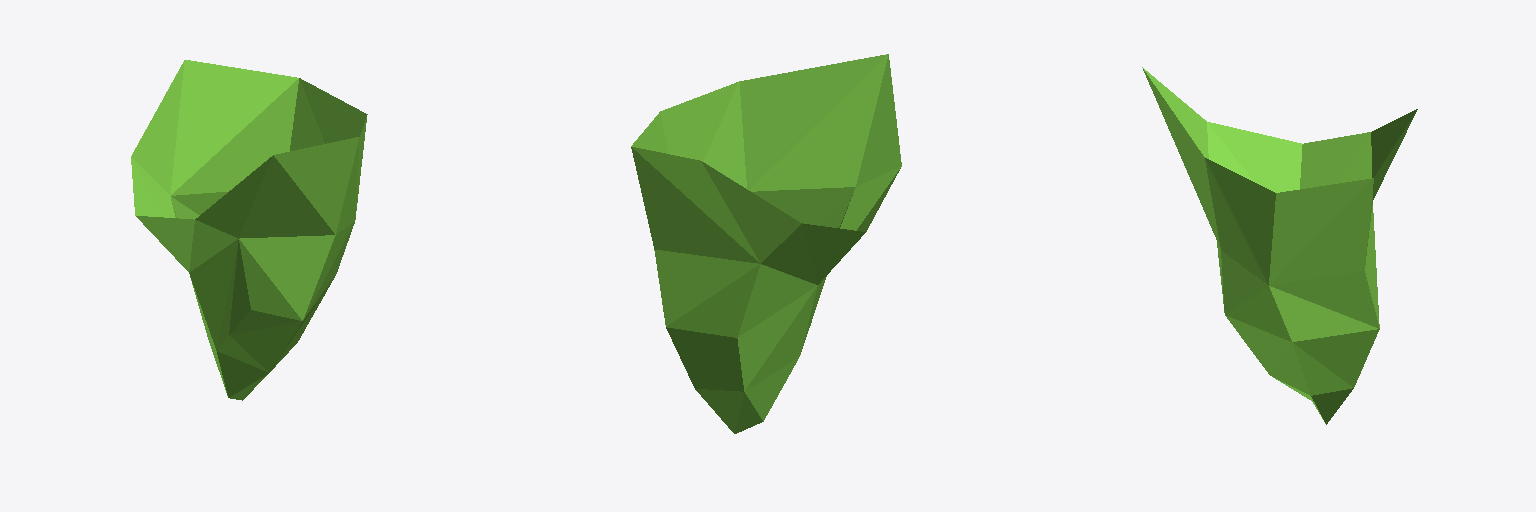
File: Stalagmite_Fragment5.obj
3 renders of one model, left to right at view 1: azimuth 30°, elevation 25°; view 2: azimuth 150°, elevation 25°; view 3: azimuth 270°, elevation 25°, orthographic.
Parts seen in each view (by area): view 1: Stalagmite_Fragment5; view 2: Stalagmite_Fragment5; view 3: Stalagmite_Fragment5.
Part boxes in pixels (left/top/right/bottom): Stalagmite_Fragment5: left=131, top=60, right=367, bottom=400; Stalagmite_Fragment5: left=631, top=54, right=901, bottom=433; Stalagmite_Fragment5: left=1142, top=67, right=1417, bottom=424.
Bounding box in the file's own units: 0.7032 × 1.01 × 0.7681.